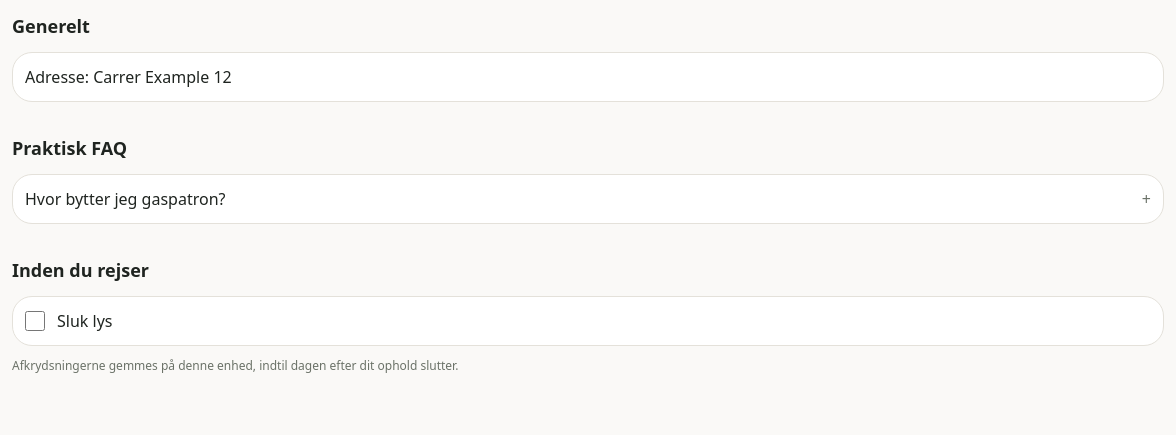
Scenario: InfoView › FAQ-spørgsmål folder svaret ud og ind ved klik
expect the text "I skuret." is not shown: met
Click the text "Hvor bytter jeg gaspatron?": (125,199) x1=25 y1=187 x2=226 y2=211
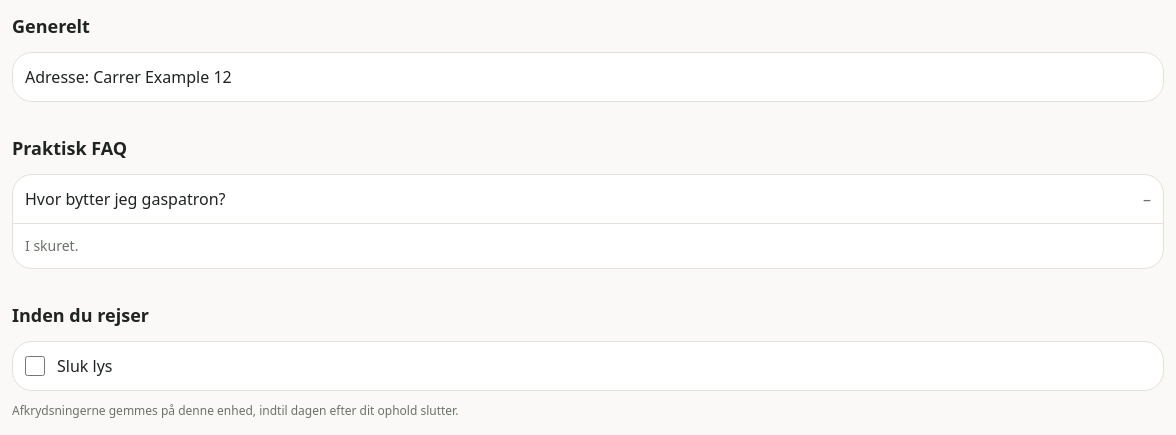
expect the text "I skuret." is shown: met, box x1=13 y1=223 x2=1163 y2=268
Click the text "Hvor bytter jeg gaspatron?": (125,199) x1=25 y1=187 x2=226 y2=211
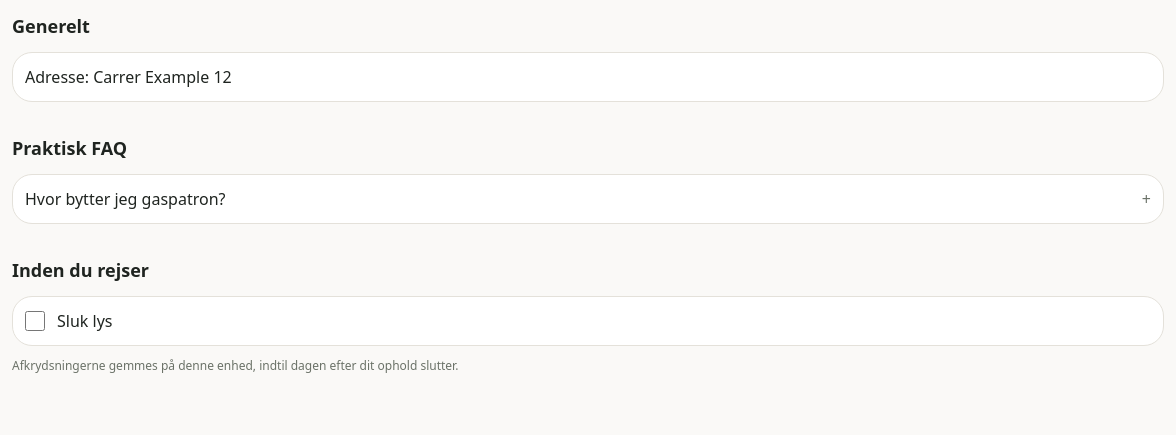
expect the text "I skuret." is gone: met
